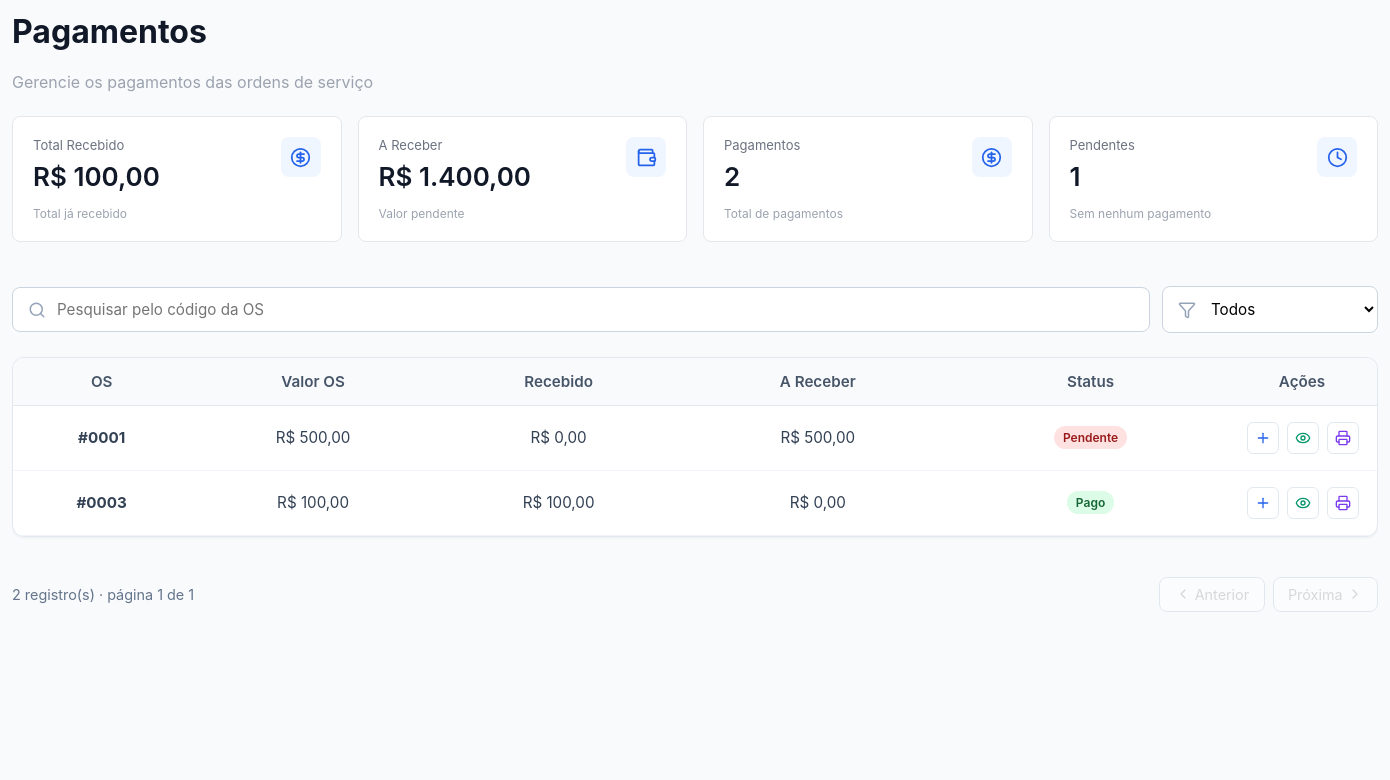
Scenario: Página de Pagamentos › pesquisa e filtro (no servidor) › filtra por status (no servidor) e mostra mensagem quando nada corresponde
Expected: the text "#0001" is shown, left=78, top=428, right=125, bottom=447
Select "Paga" in the dropdown named "Filtrar por status": (1270, 310) left=1162, top=286, right=1378, bottom=333
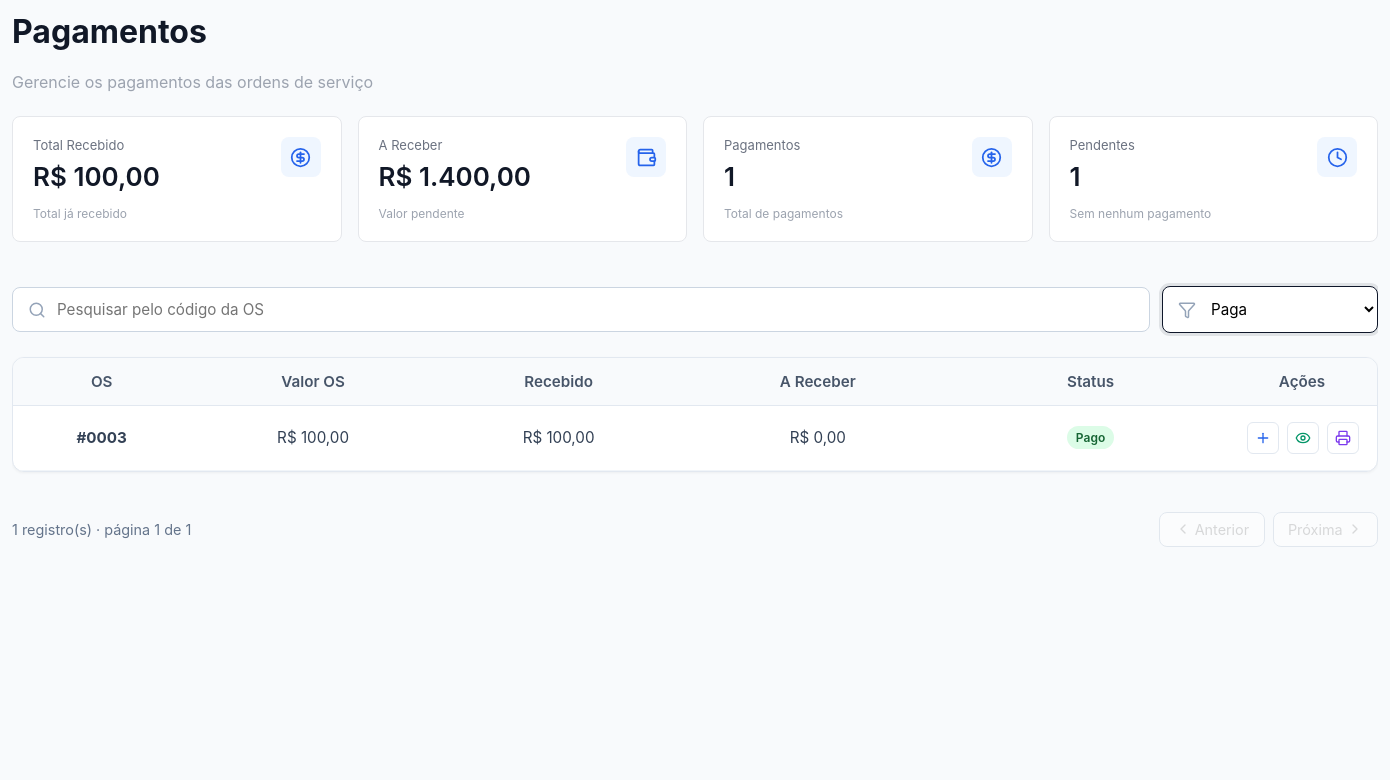
Expected: the text "#0003" is shown, left=76, top=428, right=127, bottom=447
Result: the text "#0001" is gone
Select "Pago parcialmente" in the dropdown named "Filtrar por status": (1270, 310) left=1162, top=286, right=1378, bottom=333
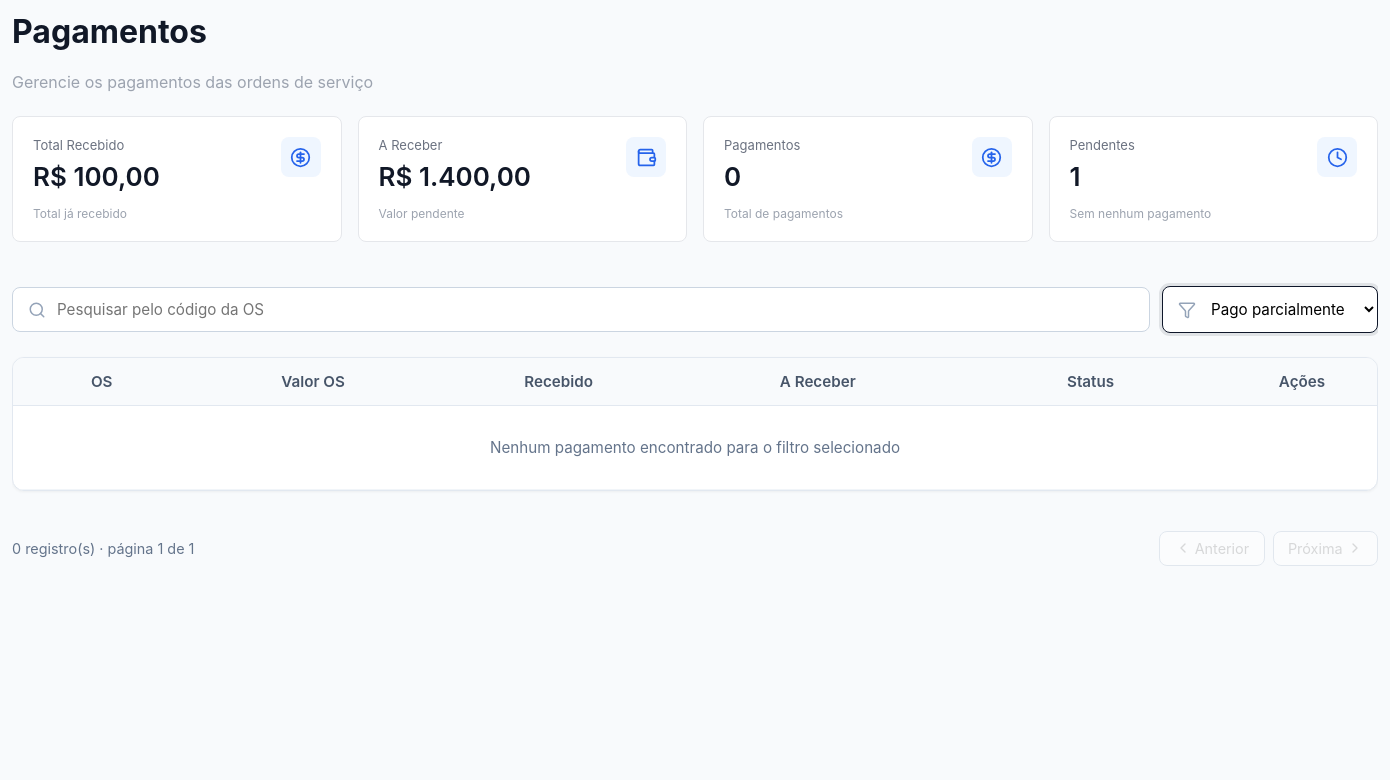
Result: the text "Nenhum pagamento encontrado para o filtro selecionado" is shown at left=13, top=405, right=1377, bottom=489
